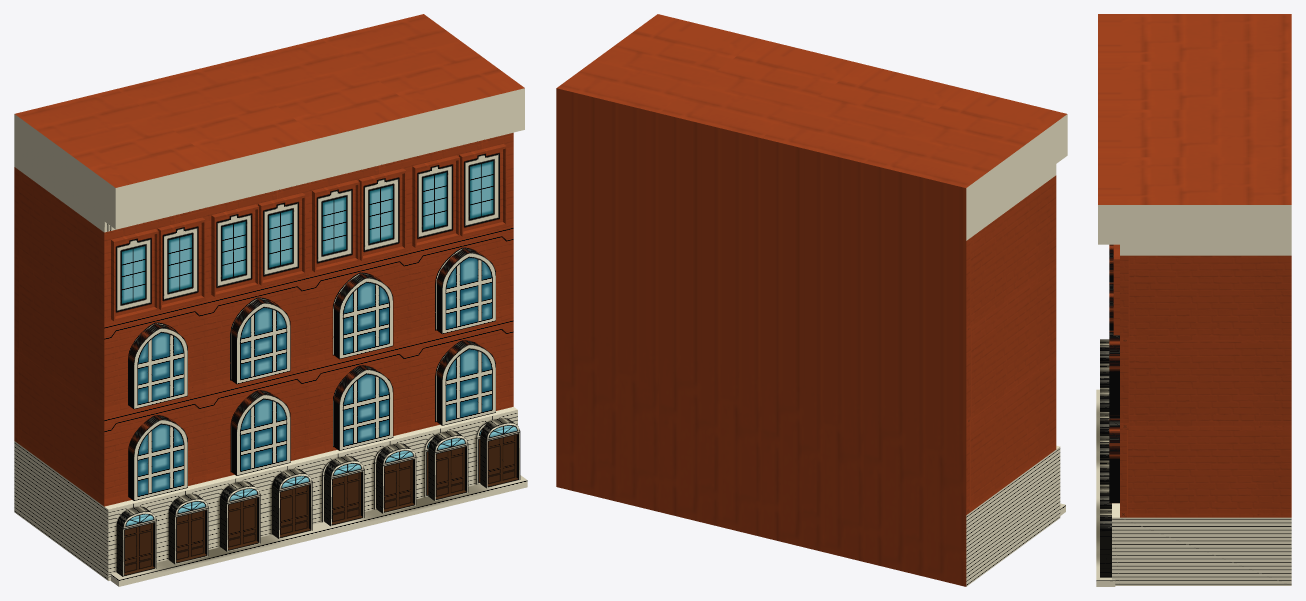
Rendered from OldBuildingBlock1.fbx.
3 renders of one model, left to right at view 1: azimuth 30°, elevation 25°; view 2: azimuth 150°, elevation 25°; view 3: azimuth 270°, elevation 25°, orthographic. The views are drawn at different scales.
Parts seen in each view (by area): view 1: Old Building Block 1; view 2: Old Building Block 1; view 3: Old Building Block 1.
Part boxes in pixels (bbox=[...]): Old Building Block 1: bbox=[14, 14, 527, 586]; Old Building Block 1: bbox=[556, 14, 1067, 586]; Old Building Block 1: bbox=[1096, 14, 1291, 586].
Size of the model in its own units: 651 by 604 by 281.
